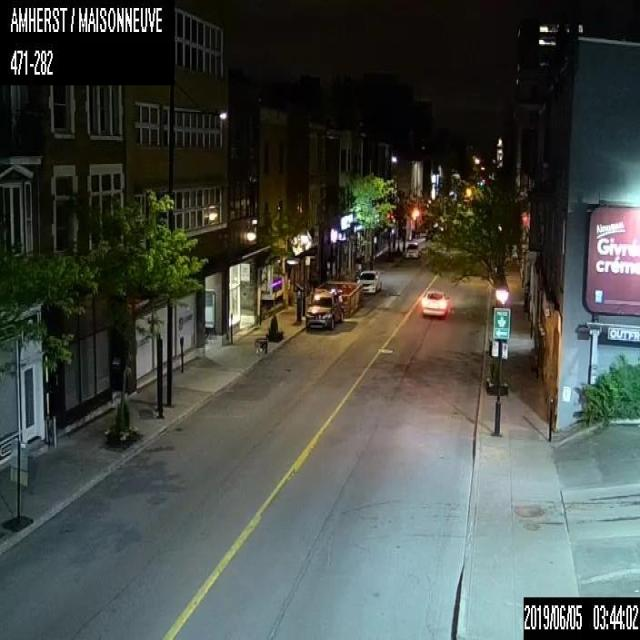vehicle: (304, 291, 344, 332), (421, 289, 450, 316), (356, 270, 382, 293), (404, 240, 421, 259)
